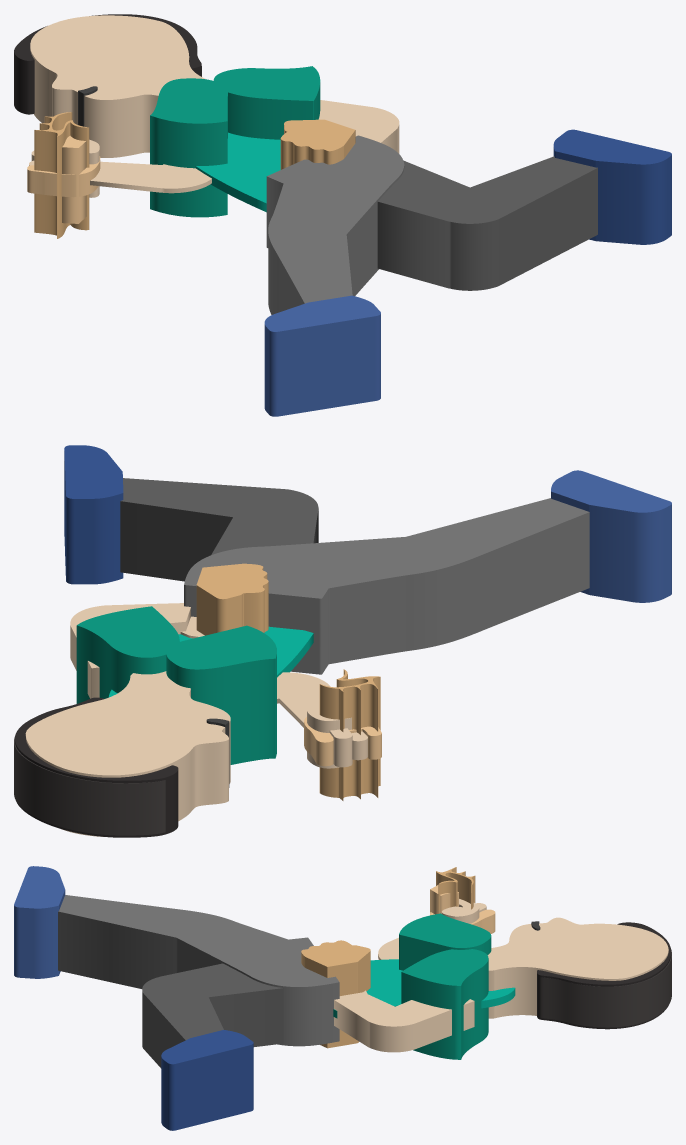
Rendered from emoji_u1f3c3_1f3fb_200d_2642.glb.
The picture shows the model from 3 angles, top to bottom: view 1: azimuth 30°, elevation 25°; view 2: azimuth 150°, elevation 25°; view 3: azimuth 270°, elevation 25°; orthographic projection. The views are drawn at different scales.
Parts seen in each view (by area): view 1: emoji_u1f3c3_1f3fb_200d_2642; view 2: emoji_u1f3c3_1f3fb_200d_2642; view 3: emoji_u1f3c3_1f3fb_200d_2642.
Part boxes in pixels (x1,y1,x2,y2): emoji_u1f3c3_1f3fb_200d_2642: (14, 14, 671, 416); emoji_u1f3c3_1f3fb_200d_2642: (14, 445, 671, 837); emoji_u1f3c3_1f3fb_200d_2642: (14, 866, 671, 1130).
Size of the model in its own units: 0.0228 by 0.0046 by 0.0322.
